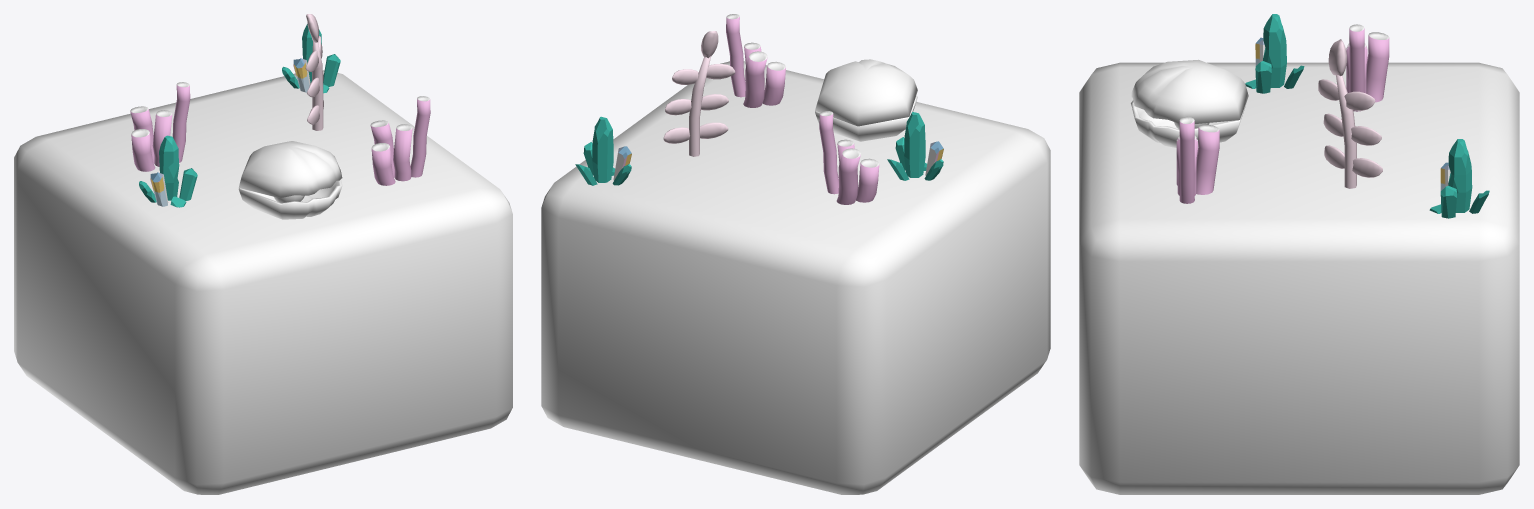
The model's file is Mini_World.fbx.
3 renders of one model, left to right at view 1: azimuth 30°, elevation 25°; view 2: azimuth 150°, elevation 25°; view 3: azimuth 270°, elevation 25°, orthographic. The views are drawn at different scales.
Parts seen in each view (by area): view 1: mini_world; view 2: mini_world; view 3: mini_world.
Part boxes in pixels (left/top/right/bottom): mini_world: left=14, top=14, right=512, bottom=494; mini_world: left=541, top=14, right=1050, bottom=494; mini_world: left=1079, top=14, right=1519, bottom=494.
Bounding box in the file's own units: 5.58 × 5.72 × 5.58.
